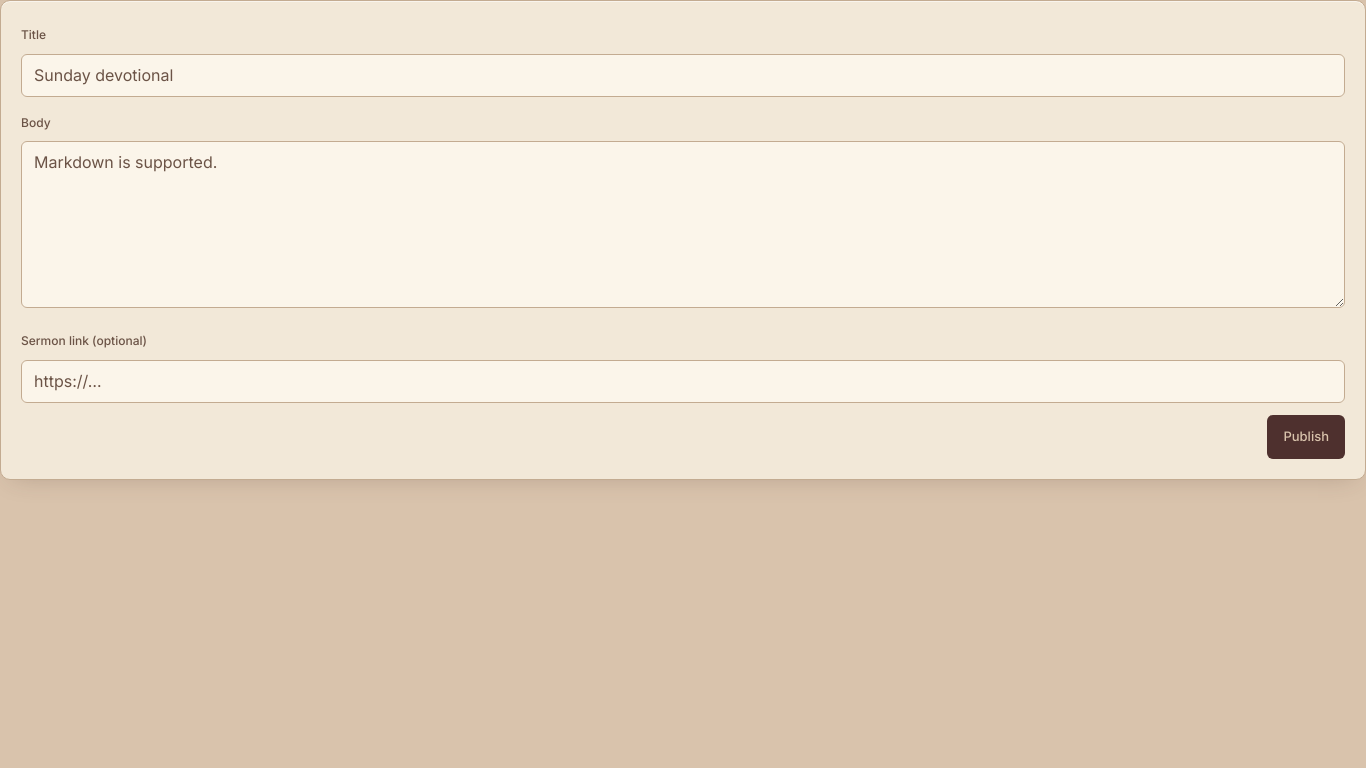
Test: NewMinistryPostForm submit › posts title + body and clears the form on success
This screenshot has width=1366, height=768.
Type "Sunday update" into the field labelled "Title" at (683, 75), box [21,54,1345,97]
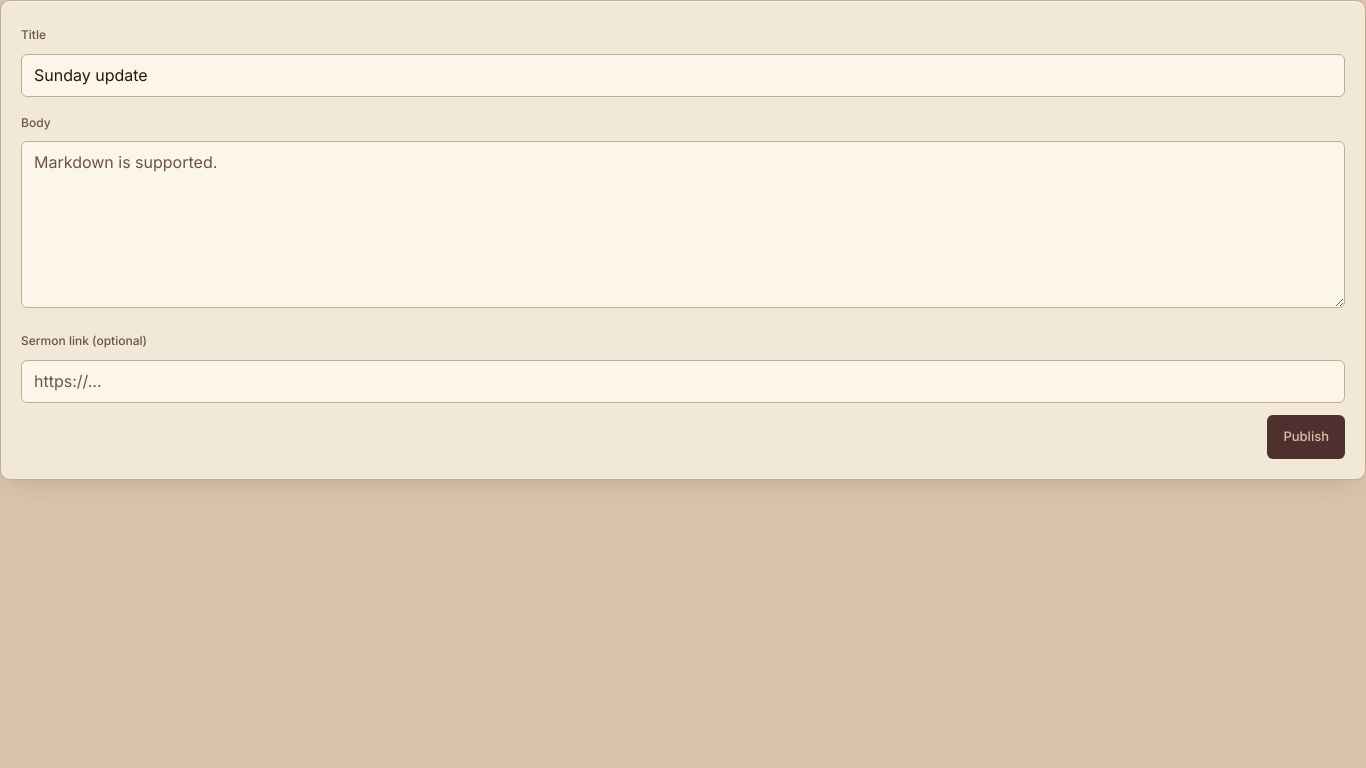
Type "Reflect on Psalm 23." into the text box labelled "Body" at (683, 225), box [21,141,1345,308]
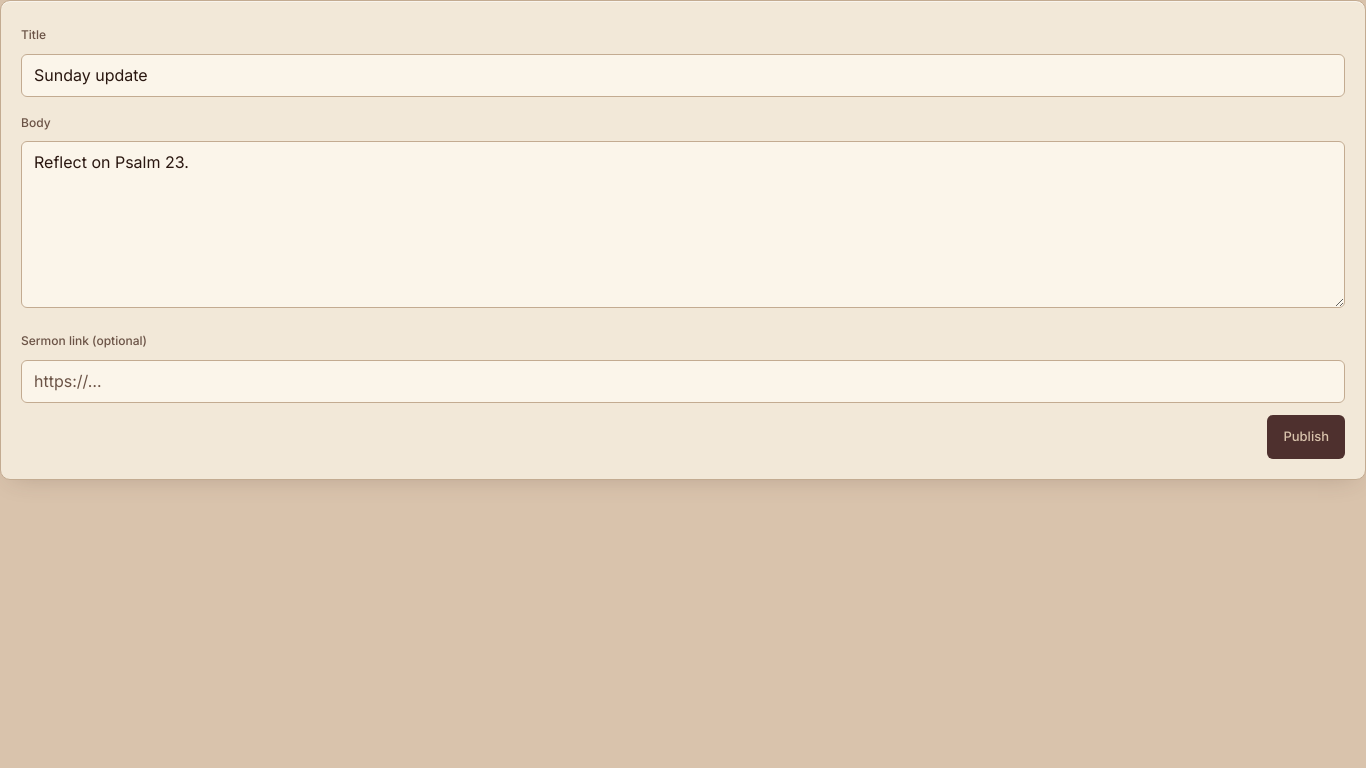
Click the button "Publish" at (1306, 437), box [1267,415,1345,459]
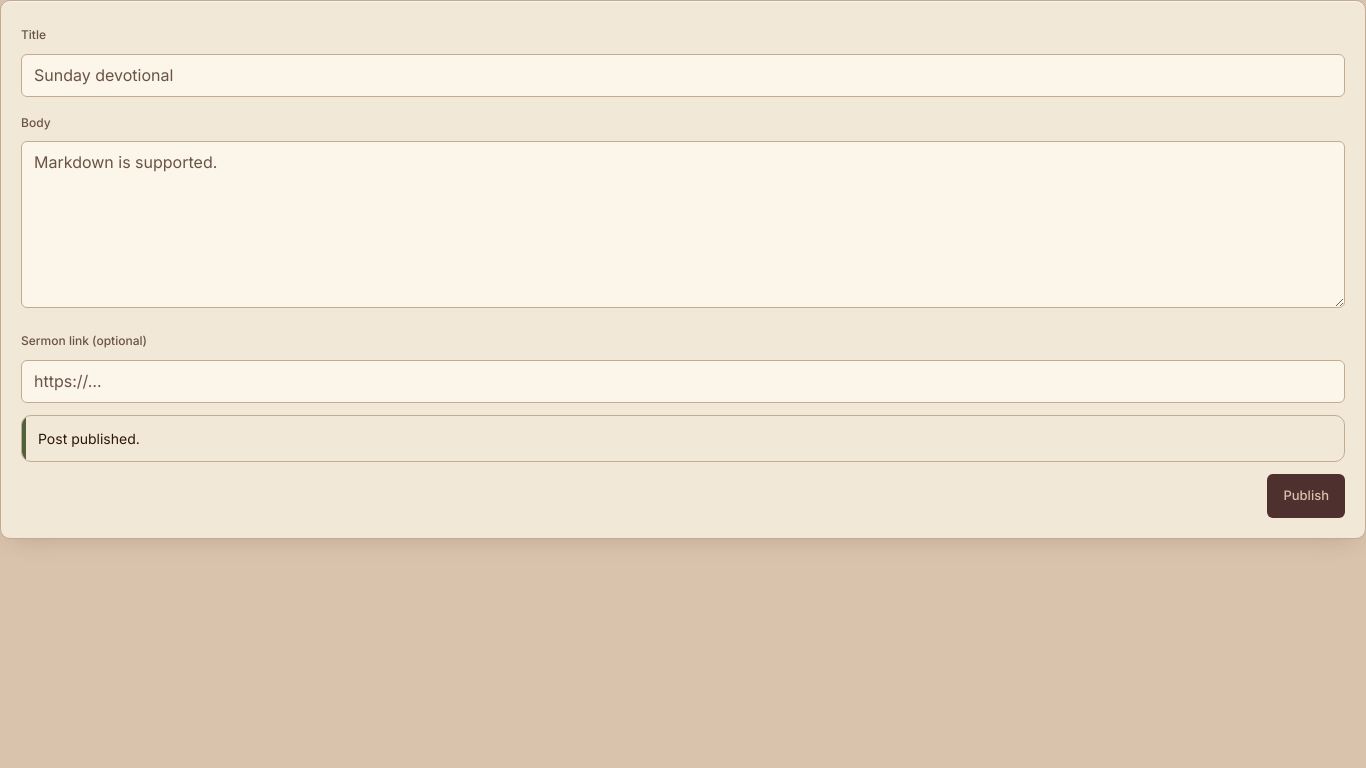
Expected: the text "Post published." is shown, [38,430,140,447]
